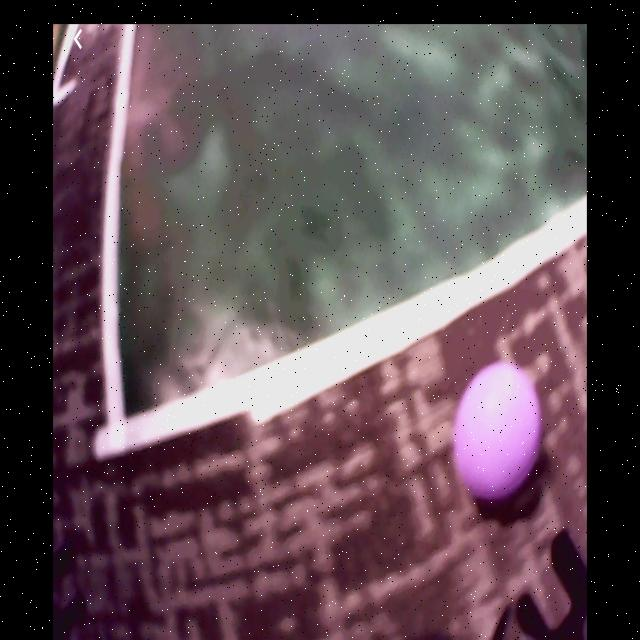ball: (450, 362, 546, 504)
